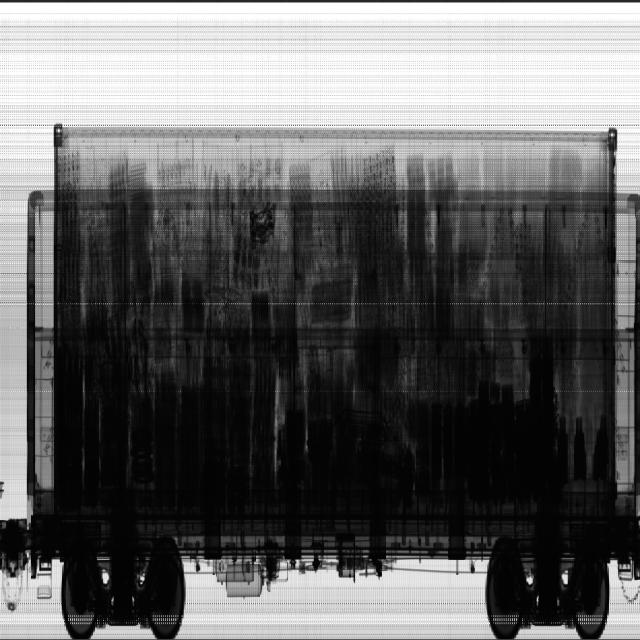shoes: (72, 152, 183, 288)
